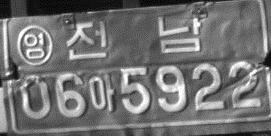0: (19, 74, 51, 120)
2: (191, 62, 225, 111), (228, 60, 262, 109)
5: (118, 66, 152, 115)
6: (54, 72, 86, 118)
9: (154, 64, 187, 113)
아: (87, 73, 115, 113)
영: (16, 25, 53, 65)
전남_D: (65, 16, 202, 60)
